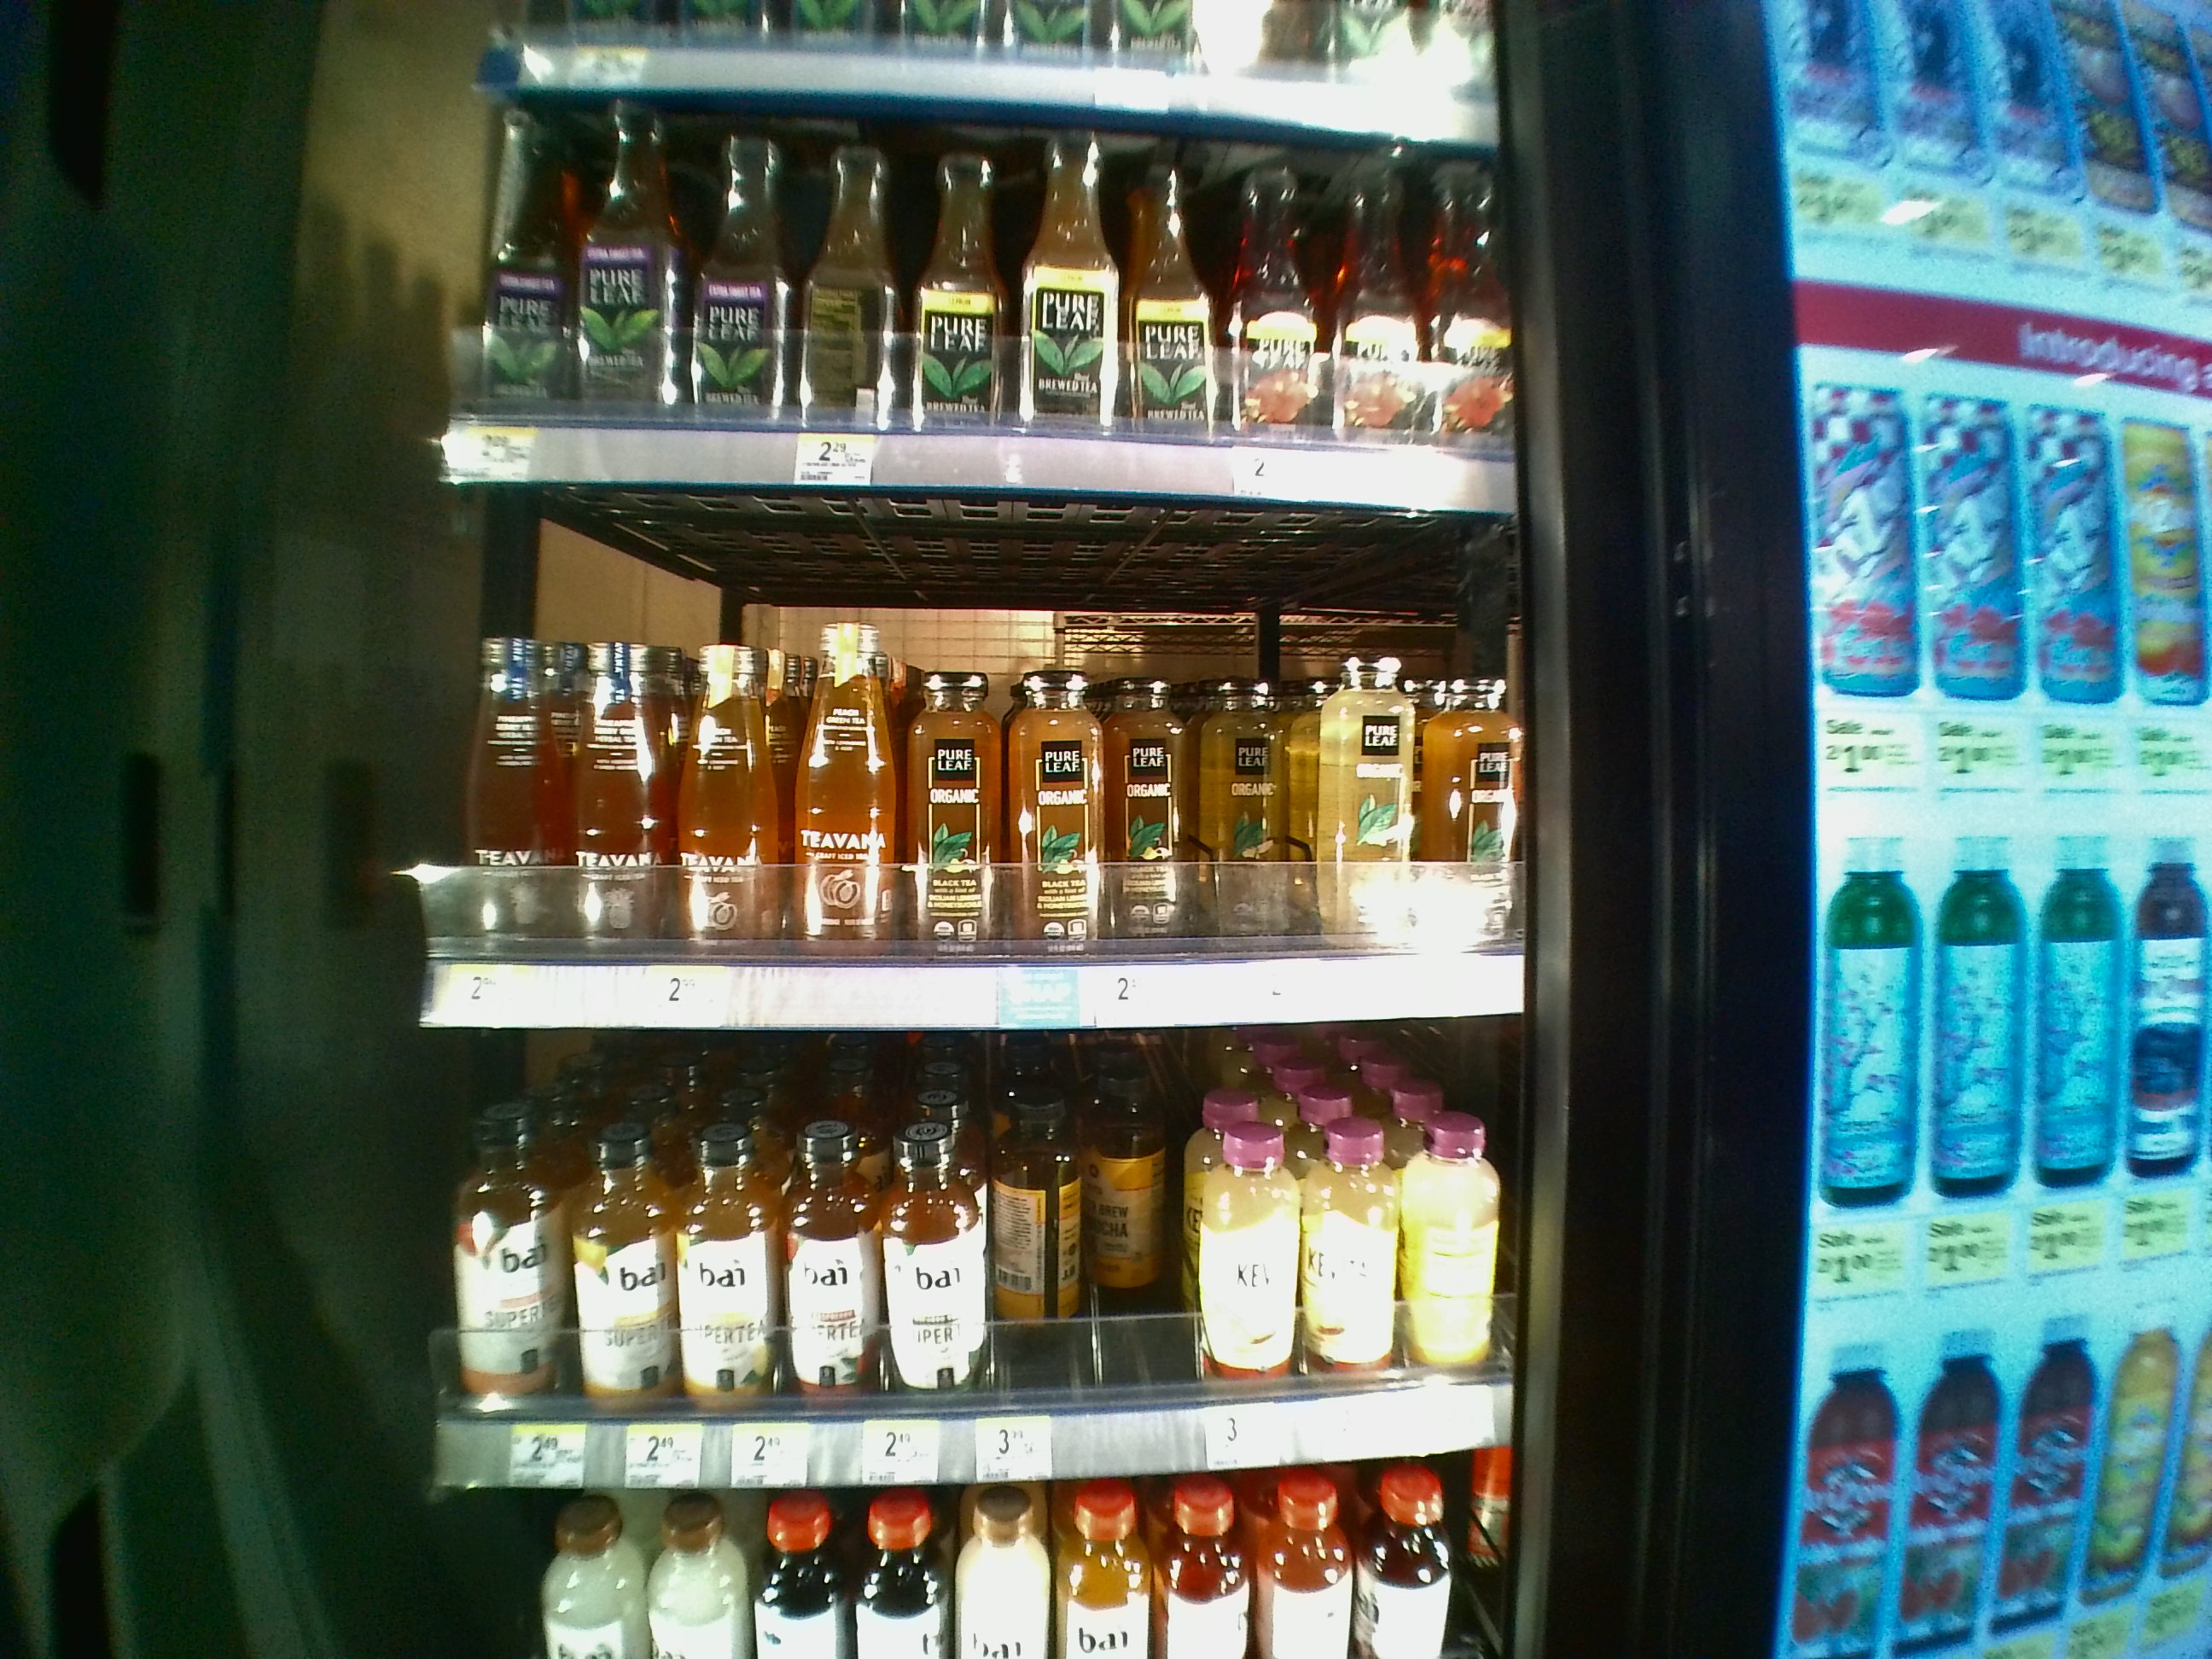shelf: (425, 518, 1526, 1025), (416, 1035, 1526, 1486), (428, 77, 1508, 500)
